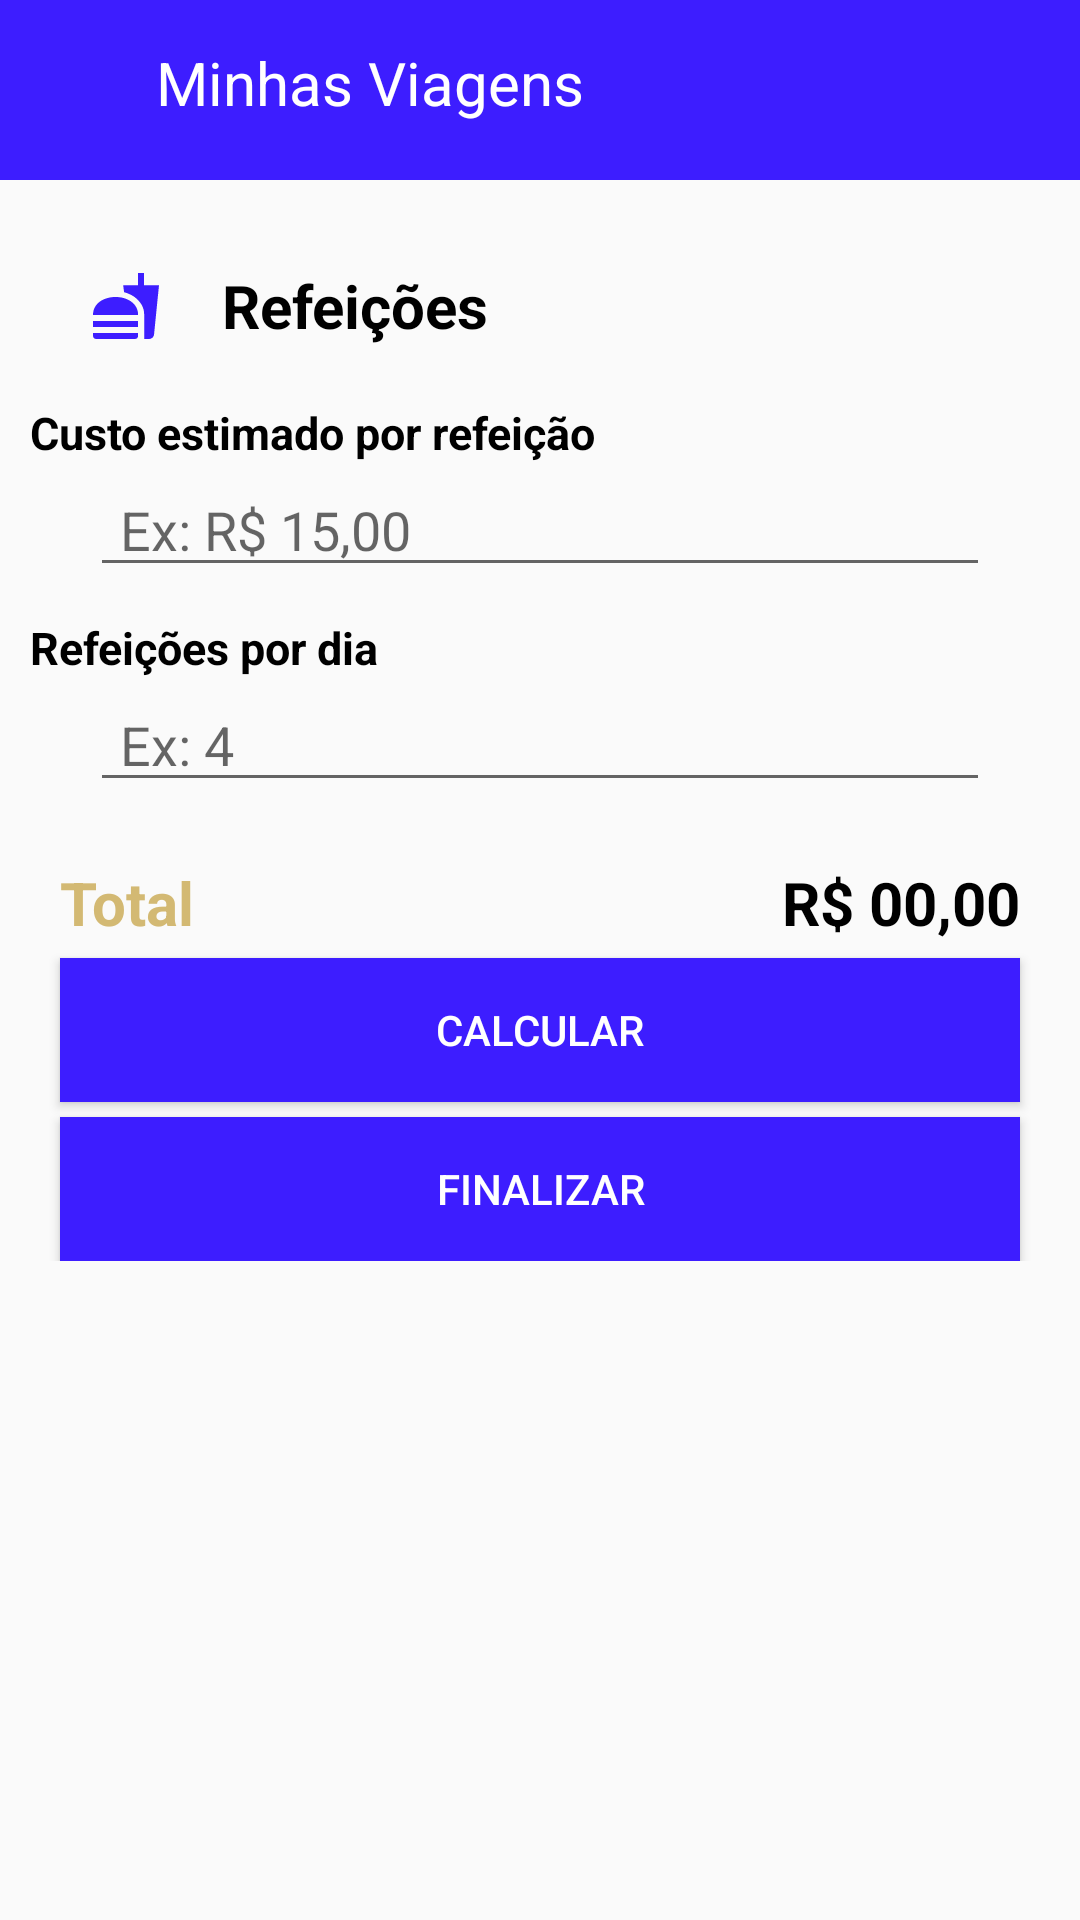

Named icons in this screenshot (1080px x 1920px) and their centers, [x,y]:
fastfood: [126,306]
